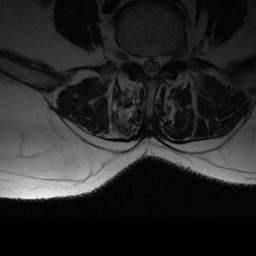CCS_normal: (147, 46, 155, 84)
LFS_normal: (165, 42, 173, 70)
LLS_normal: (155, 46, 164, 77)
RFS_normal: (130, 44, 139, 73)
RLS_normal: (139, 46, 147, 78)
